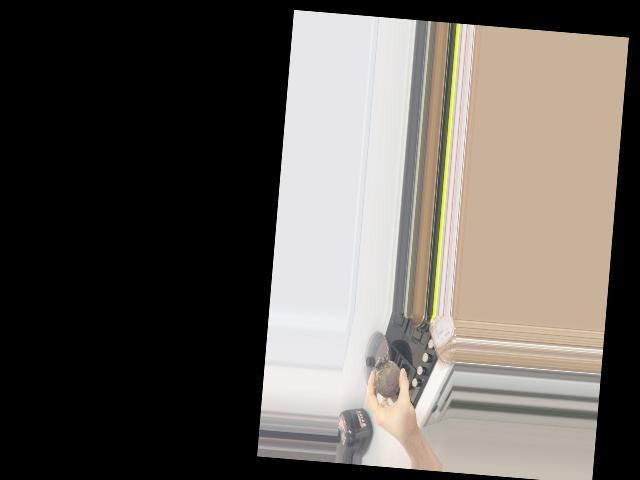beet: (373, 356, 401, 400)
